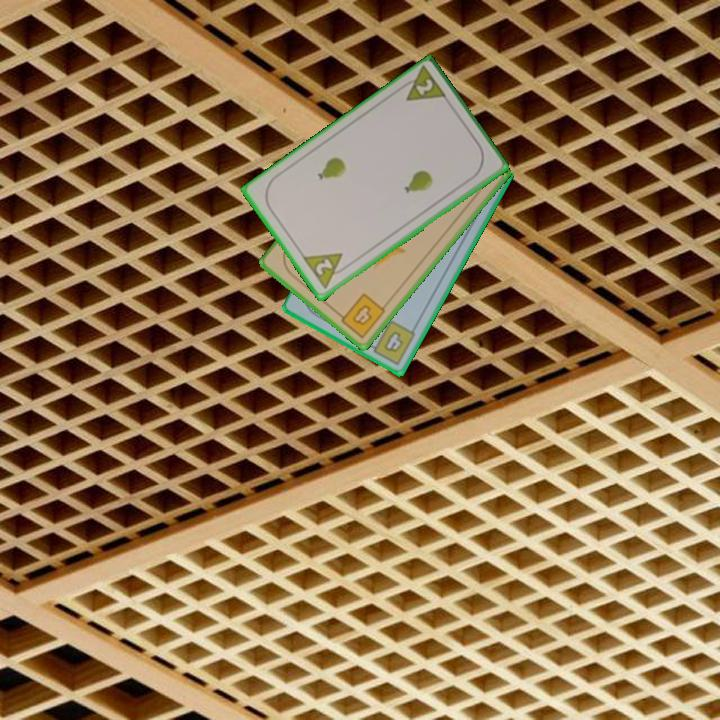2p: (299, 249, 353, 292), (395, 64, 450, 105)
4b: (364, 316, 419, 368), (333, 290, 388, 341)
